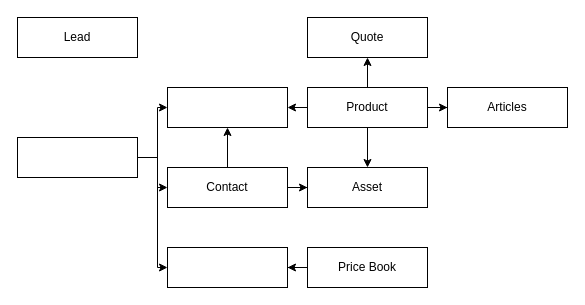
This 585x305 diagram has some shape labels left out. Each missing label, with the box of its shape:
Account: (16, 136, 138, 178)
Case: (166, 86, 288, 128)
Opportunity: (166, 246, 288, 288)
